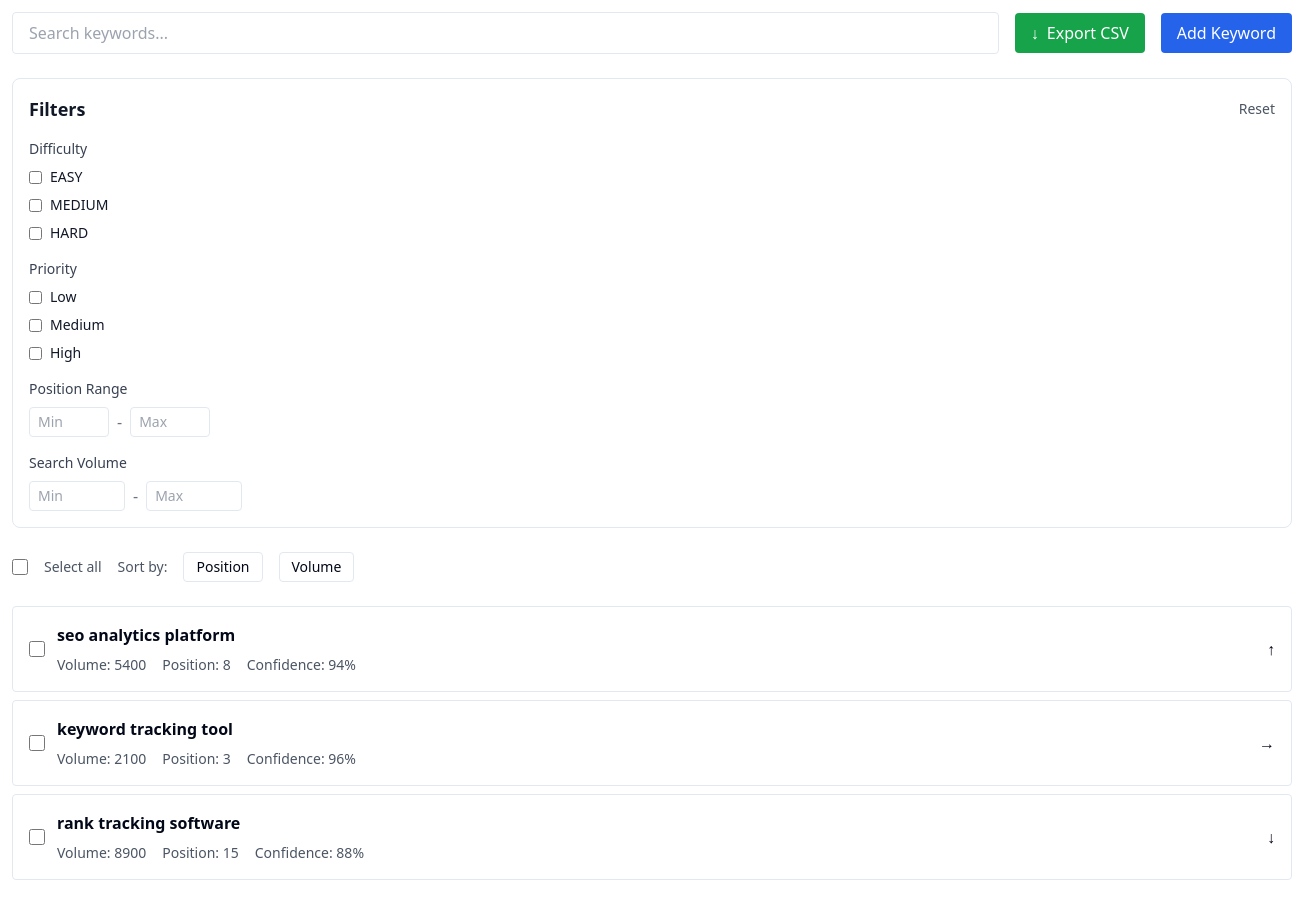
KeywordDashboard Component › Sorting Functionality › should display sort indicators
The image size is (1304, 905).
What coordinates should you click on to do the following:
click the button with test id "sort-position"
I would click on:
 (223, 567)
Its box is [184,552,262,582].
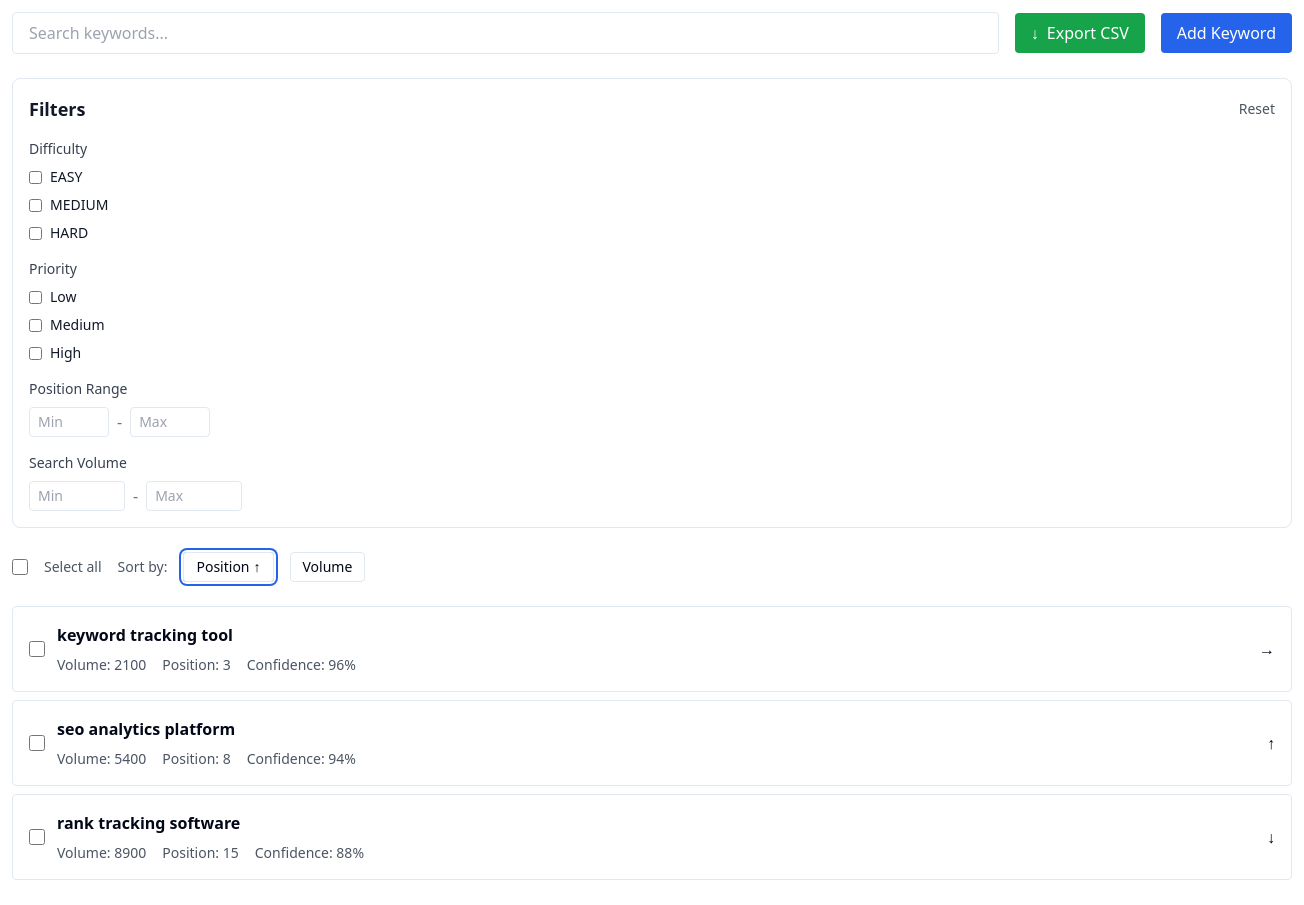
Check: the text with test id "sort-indicator-position" reads "↑", box [254,557,260,576]
